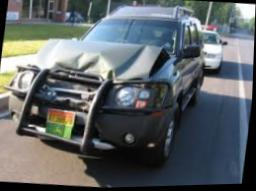Bonnet: (28, 36, 168, 80)
